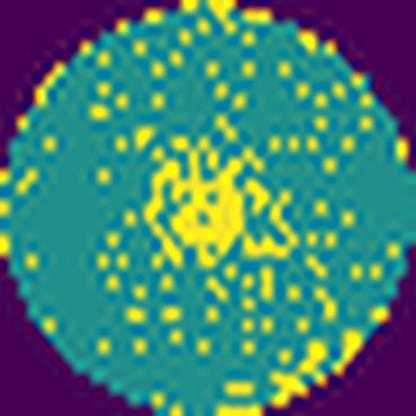Center: (145, 135, 246, 268)
